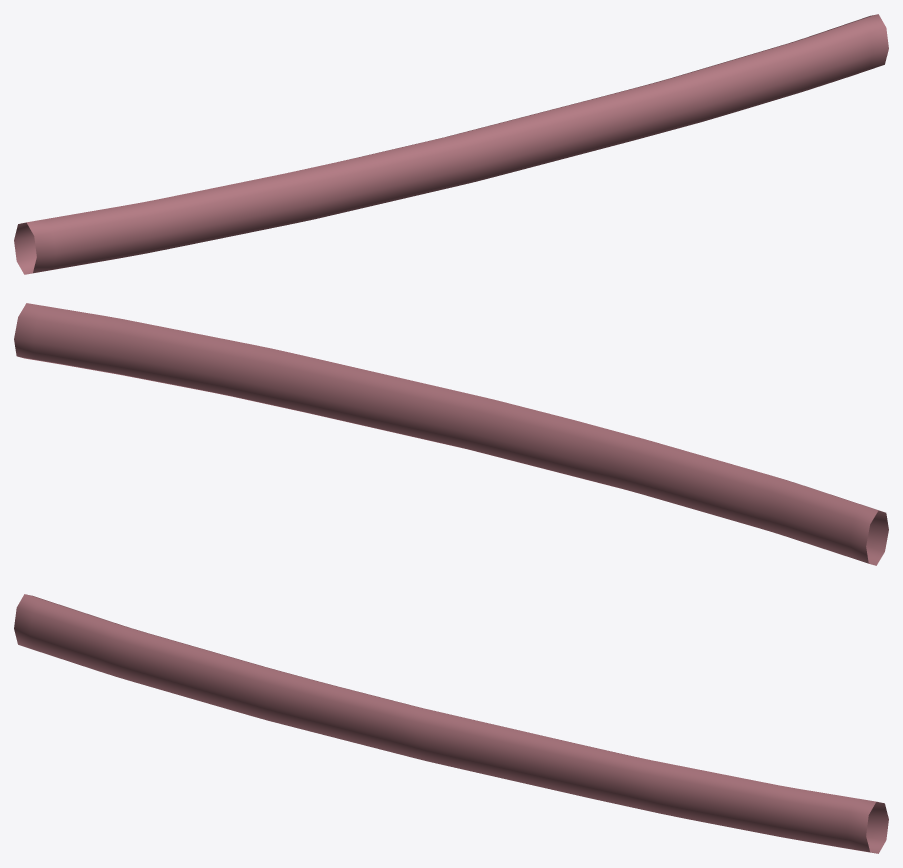
File: female_mouth_ref01_v5.glb
3 renders of one model, top to bottom at view 1: azimuth 30°, elevation 25°; view 2: azimuth 150°, elevation 25°; view 3: azimuth 330°, elevation 25°, orthographic.
Visible parts, largest first — view 1: Mouth_Lip; view 2: Mouth_Lip; view 3: Mouth_Lip.
Part boxes in pixels (<box>): Mouth_Lip: <box>14,14,888,274</box>; Mouth_Lip: <box>14,303,888,565</box>; Mouth_Lip: <box>14,594,888,853</box>.
Size of the model in its own units: 0.086 by 0.0052 by 0.00711.
